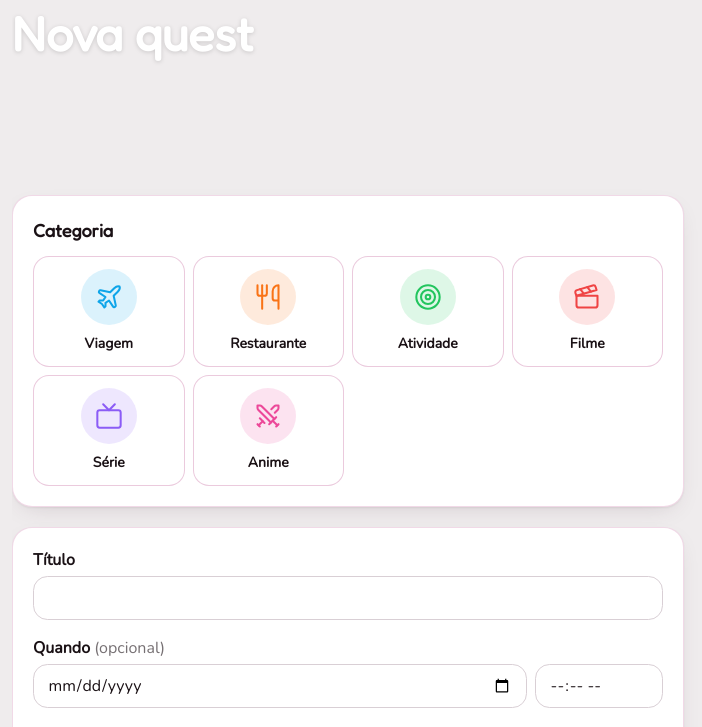
types follow the category; a new type is created and selected
Step 1. Click the button "Restaurante" → click(268, 312), box left=192, top=256, right=344, bottom=367
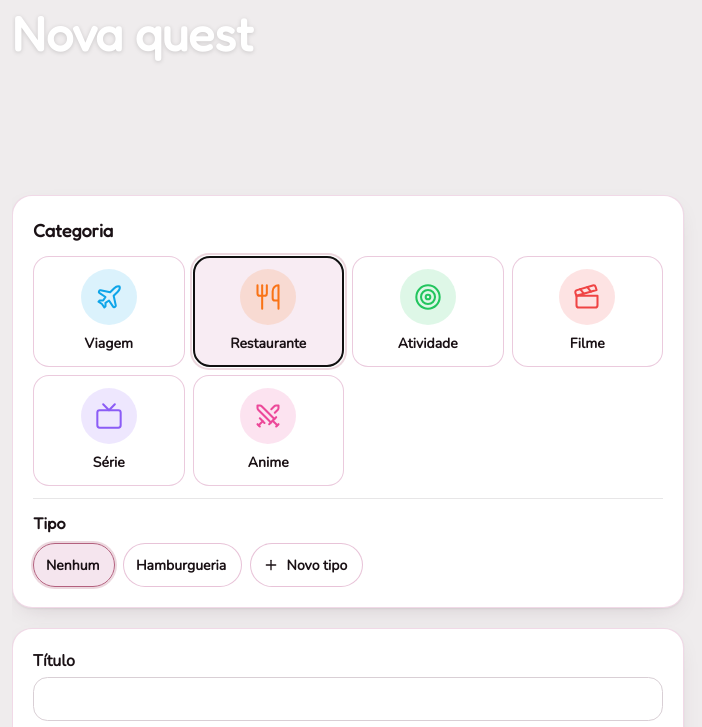
Expected: the button "Ficção científica" is not shown
Expected: the button "Hamburgueria" is shown, left=123, top=543, right=242, bottom=587
Step 2. Click the button "Novo tipo" → click(306, 565), box left=250, top=543, right=363, bottom=587
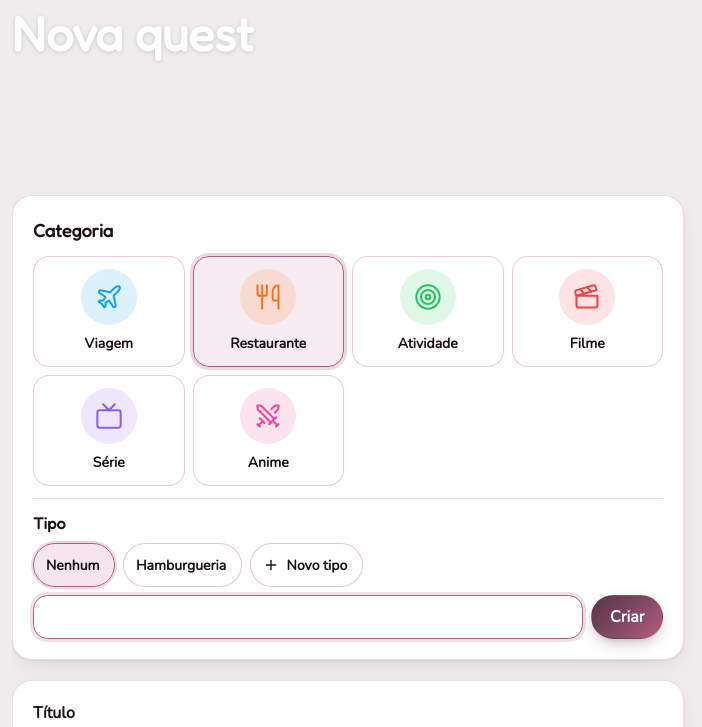
Step 3. Type "Pizzaria" into the field named "Nome do novo tipo" → (308, 617), box left=33, top=595, right=583, bottom=639
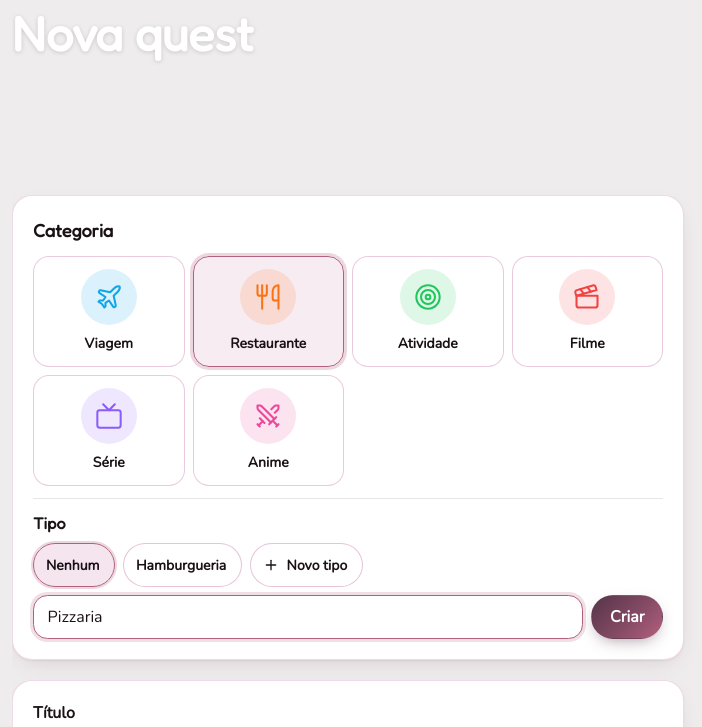
Step 4. Click the button "Criar" → click(627, 617), box left=591, top=595, right=663, bottom=639
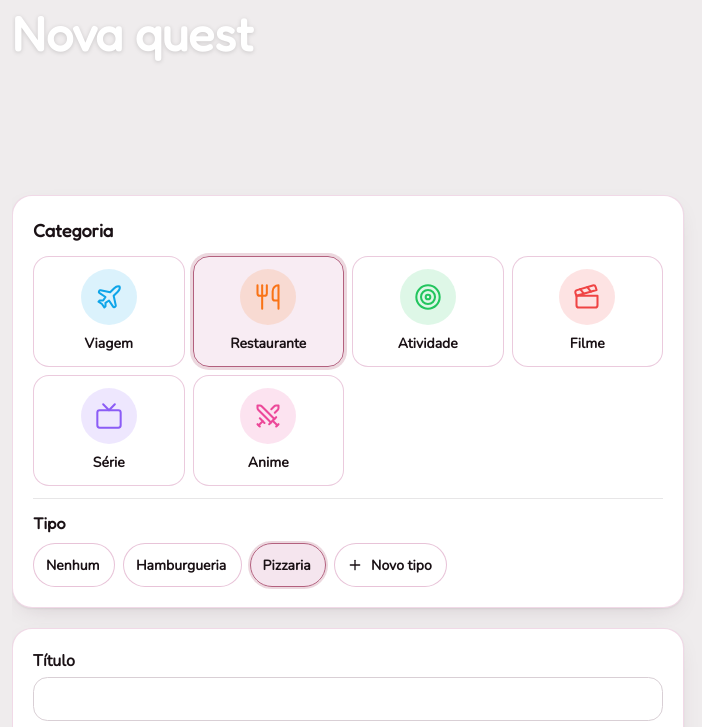
Step 5. Click the button "Filme" → click(587, 312), box left=512, top=256, right=663, bottom=367
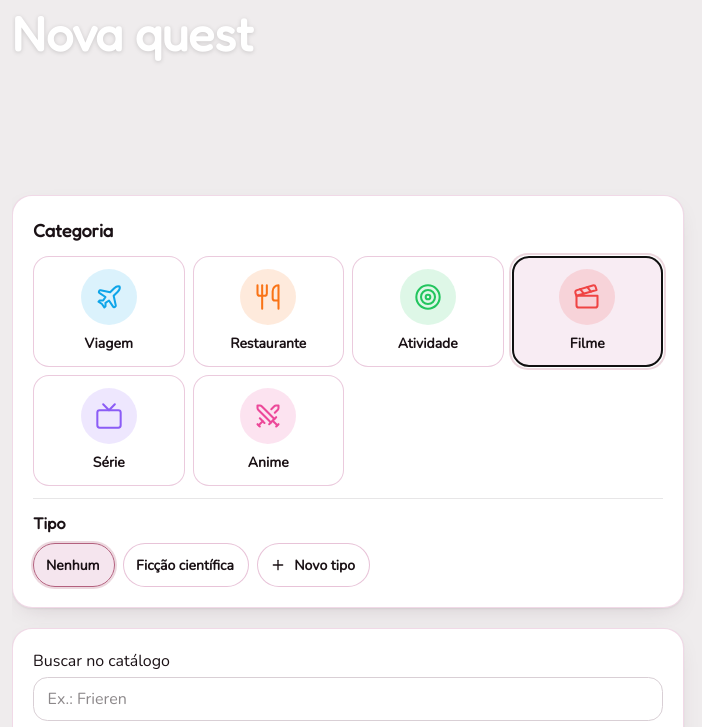
Expected: the button "Ficção científica" is shown, left=123, top=543, right=249, bottom=587
